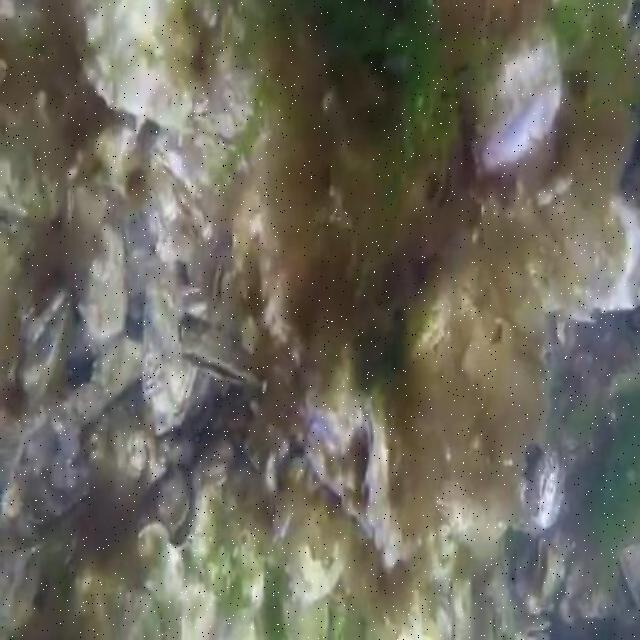Oyster-Closed: (512, 170, 640, 319), (68, 0, 218, 124), (300, 391, 374, 543), (143, 278, 199, 432), (91, 386, 164, 500), (61, 574, 164, 640), (81, 223, 128, 339), (364, 401, 391, 550), (406, 282, 453, 357), (136, 526, 183, 600), (394, 593, 457, 640), (284, 594, 328, 640), (531, 452, 559, 522), (620, 543, 640, 615), (214, 260, 241, 302), (513, 618, 556, 640), (203, 466, 229, 493)
Oyster-Open: (477, 27, 563, 166), (177, 313, 262, 389), (17, 291, 71, 400), (156, 466, 195, 545), (537, 543, 565, 598)
